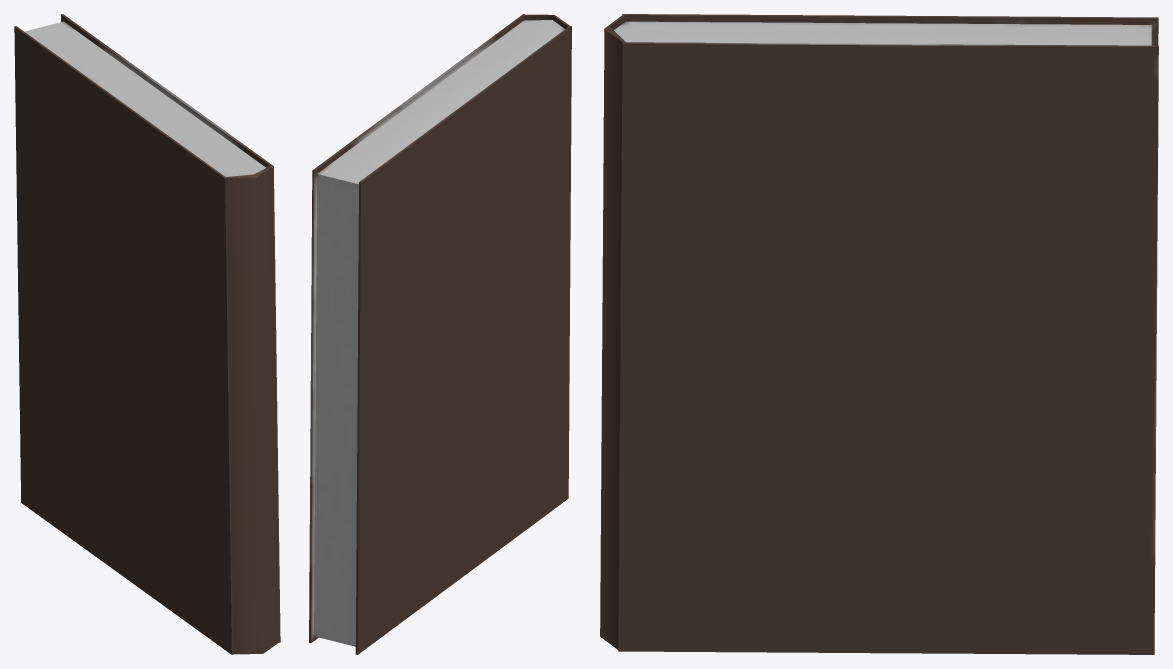
The model's file is BookBrown.fbx.
3 renders of one model, left to right at view 1: azimuth 30°, elevation 25°; view 2: azimuth 150°, elevation 25°; view 3: azimuth 270°, elevation 25°, orthographic. The views are drawn at different scales.
Visible parts, largest first — view 1: BookBrownOBJ; view 2: BookBrownOBJ; view 3: BookBrownOBJ.
Part boxes in pixels (box(x1,y1,x2,y2)): BookBrownOBJ: box(14, 14, 280, 654); BookBrownOBJ: box(309, 14, 571, 654); BookBrownOBJ: box(600, 14, 1158, 654).
Size of the model in its own units: 4.5 by 38.09 by 31.6.
Materials: 1 (1 with a texture image).
